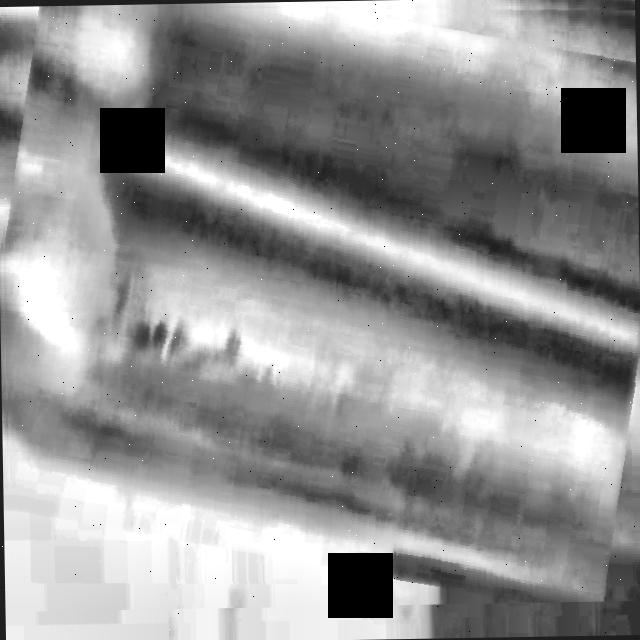bottle: (2, 6, 640, 601)
